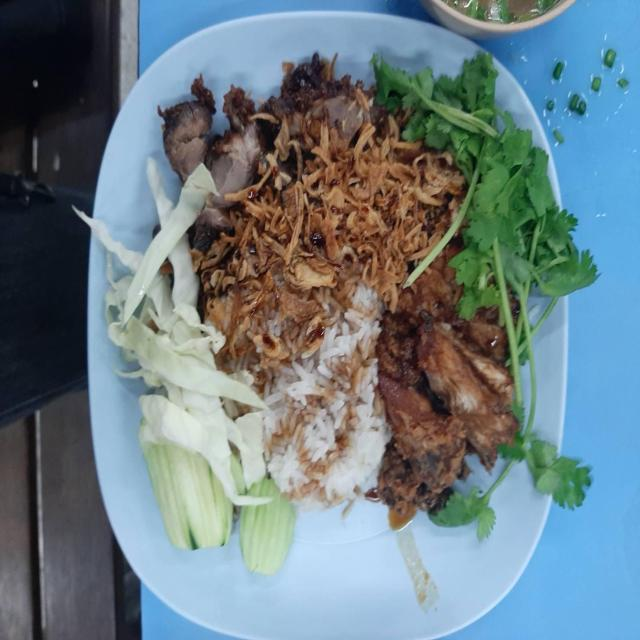-: (85, 0, 564, 640)
carp: (270, 284, 400, 518)
meat: (371, 266, 522, 538), (146, 55, 380, 183)
vegetable: (78, 178, 302, 582), (194, 113, 583, 326), (366, 27, 604, 330), (512, 328, 610, 518)
